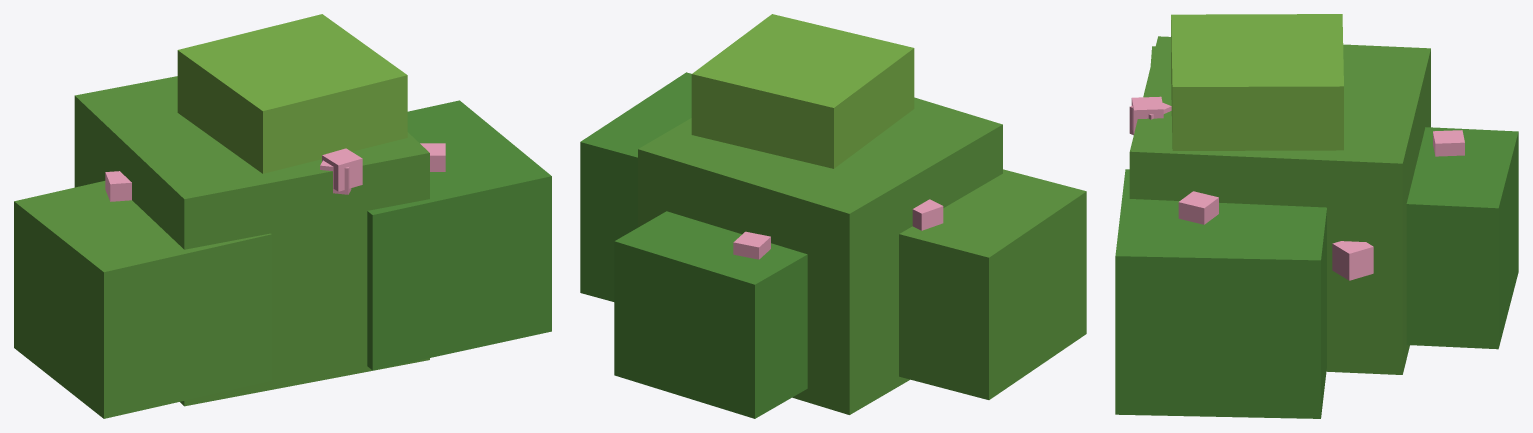
The model's file is B10_bush_flowering.obj.
3 renders of one model, left to right at view 1: azimuth 30°, elevation 25°; view 2: azimuth 150°, elevation 25°; view 3: azimuth 270°, elevation 25°, orthographic. The views are drawn at different scales.
Parts seen in each view (by area): view 1: B10_bush_flowering; view 2: B10_bush_flowering; view 3: B10_bush_flowering.
Part boxes in pixels (x1,y1,x2,y2): B10_bush_flowering: (14,14,551,418); B10_bush_flowering: (580,14,1086,418); B10_bush_flowering: (1115,14,1518,418).
Size of the model in its own units: 2.26 by 1.33 by 1.76.
